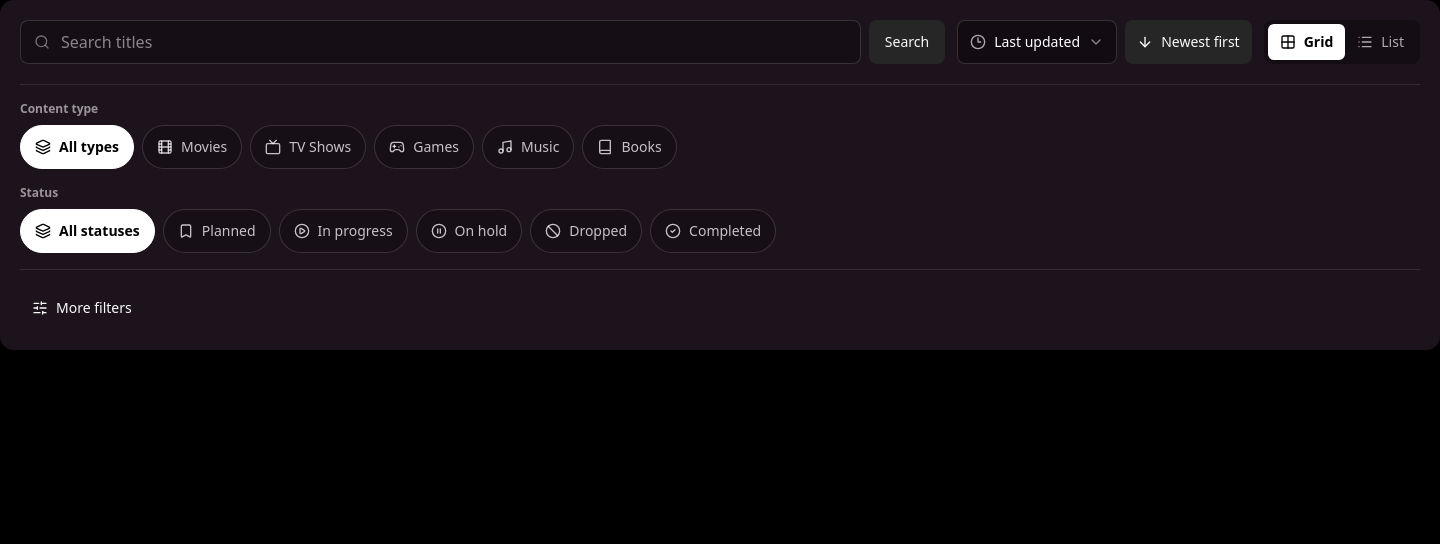
Test: profile progress toolbar › offers visual status shortcuts and collapses secondary filters
Expected: the button "Rating" is not shown
Click the button "Completed" at [713, 231], box [650,209,776,253]
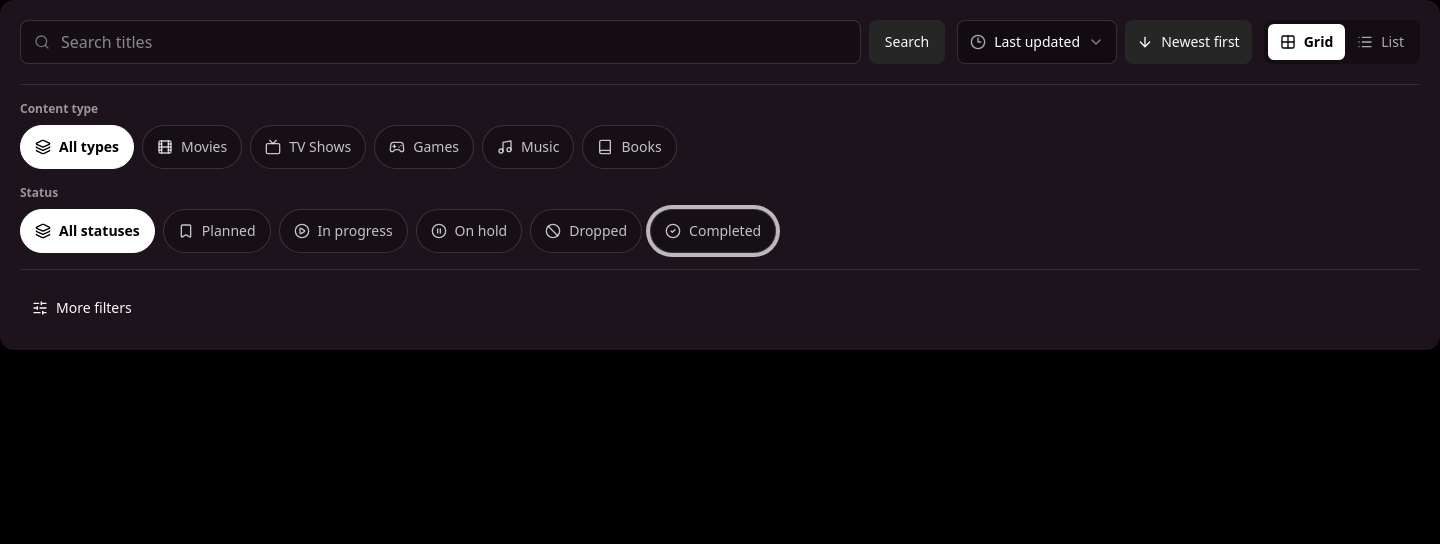
Click the button "More filters" at [82, 308], box [20,286,144,330]
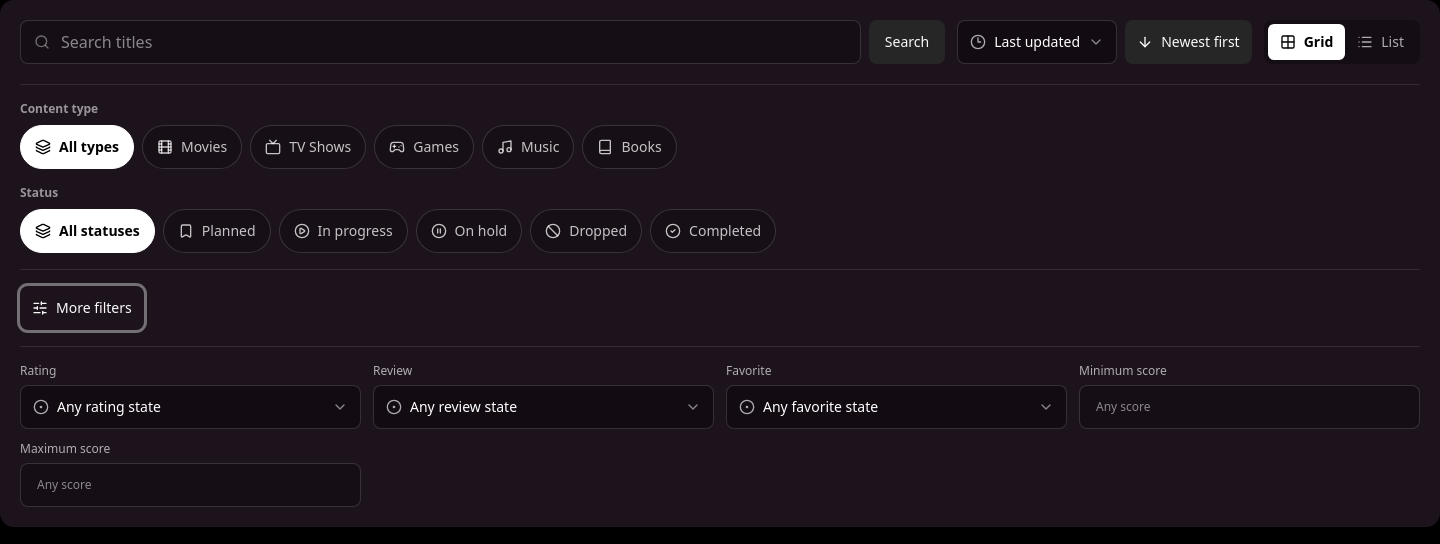
Expected: the button "Any rating state" is shown, [20,385,361,429]
Expected: the button "Any review state" is shown, [373,385,714,429]
Expected: the button "Any favorite state" is shown, [726,385,1067,429]
